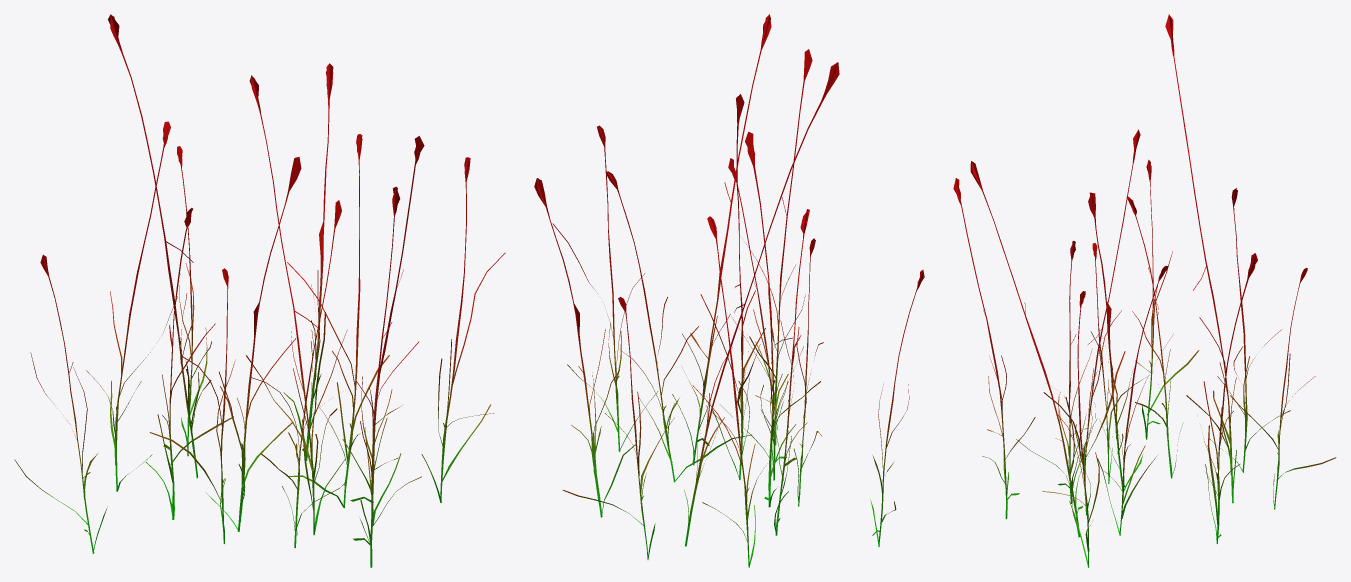
File: Tundra Grass_LOD1_Var33_wk2oaeyqx.fbx
3 views of the same model, side by side, from view 1: azimuth 30°, elevation 25°; view 2: azimuth 150°, elevation 25°; view 3: azimuth 270°, elevation 25° (orthographic). The views are drawn at different scales.
Parts seen in each view (by area): view 1: _3nc0_Var33_LOD1; view 2: _3nc0_Var33_LOD1; view 3: _3nc0_Var33_LOD1.
Boxes of the visible parts, <box> form: _3nc0_Var33_LOD1: <box>14,14,505,567</box>; _3nc0_Var33_LOD1: <box>534,14,924,567</box>; _3nc0_Var33_LOD1: <box>953,14,1336,567</box>.
Bounding box in the file's own units: 62.79 × 72.78 × 57.66.
